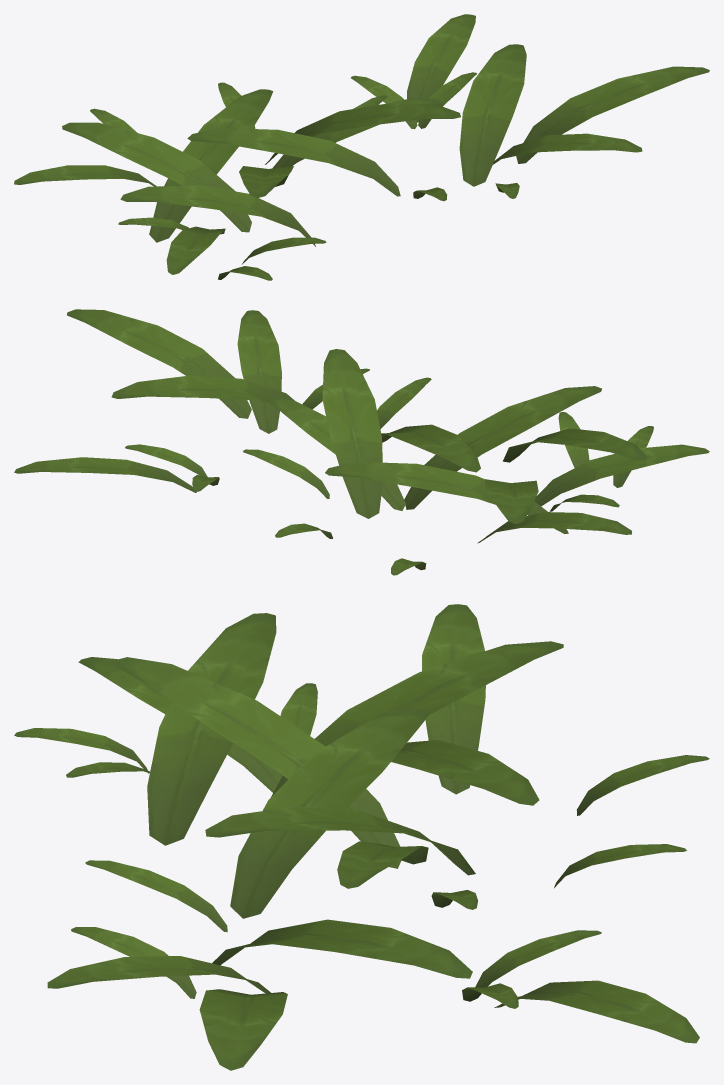
The model's file is grass_002.glb.
The picture shows the model from 3 angles, top to bottom: view 1: azimuth 30°, elevation 25°; view 2: azimuth 150°, elevation 25°; view 3: azimuth 270°, elevation 25°; orthographic projection. The views are drawn at different scales.
Parts seen in each view (by area): view 1: Plane.002; view 2: Plane.002; view 3: Plane.002.
Part boxes in pixels (<box>): Plane.002: <box>14,14,709,280</box>; Plane.002: <box>14,309,709,575</box>; Plane.002: <box>14,604,709,1070</box>.
Size of the model in its own units: 1.75 by 0.239 by 1.06.
1 material, 1 textured.
